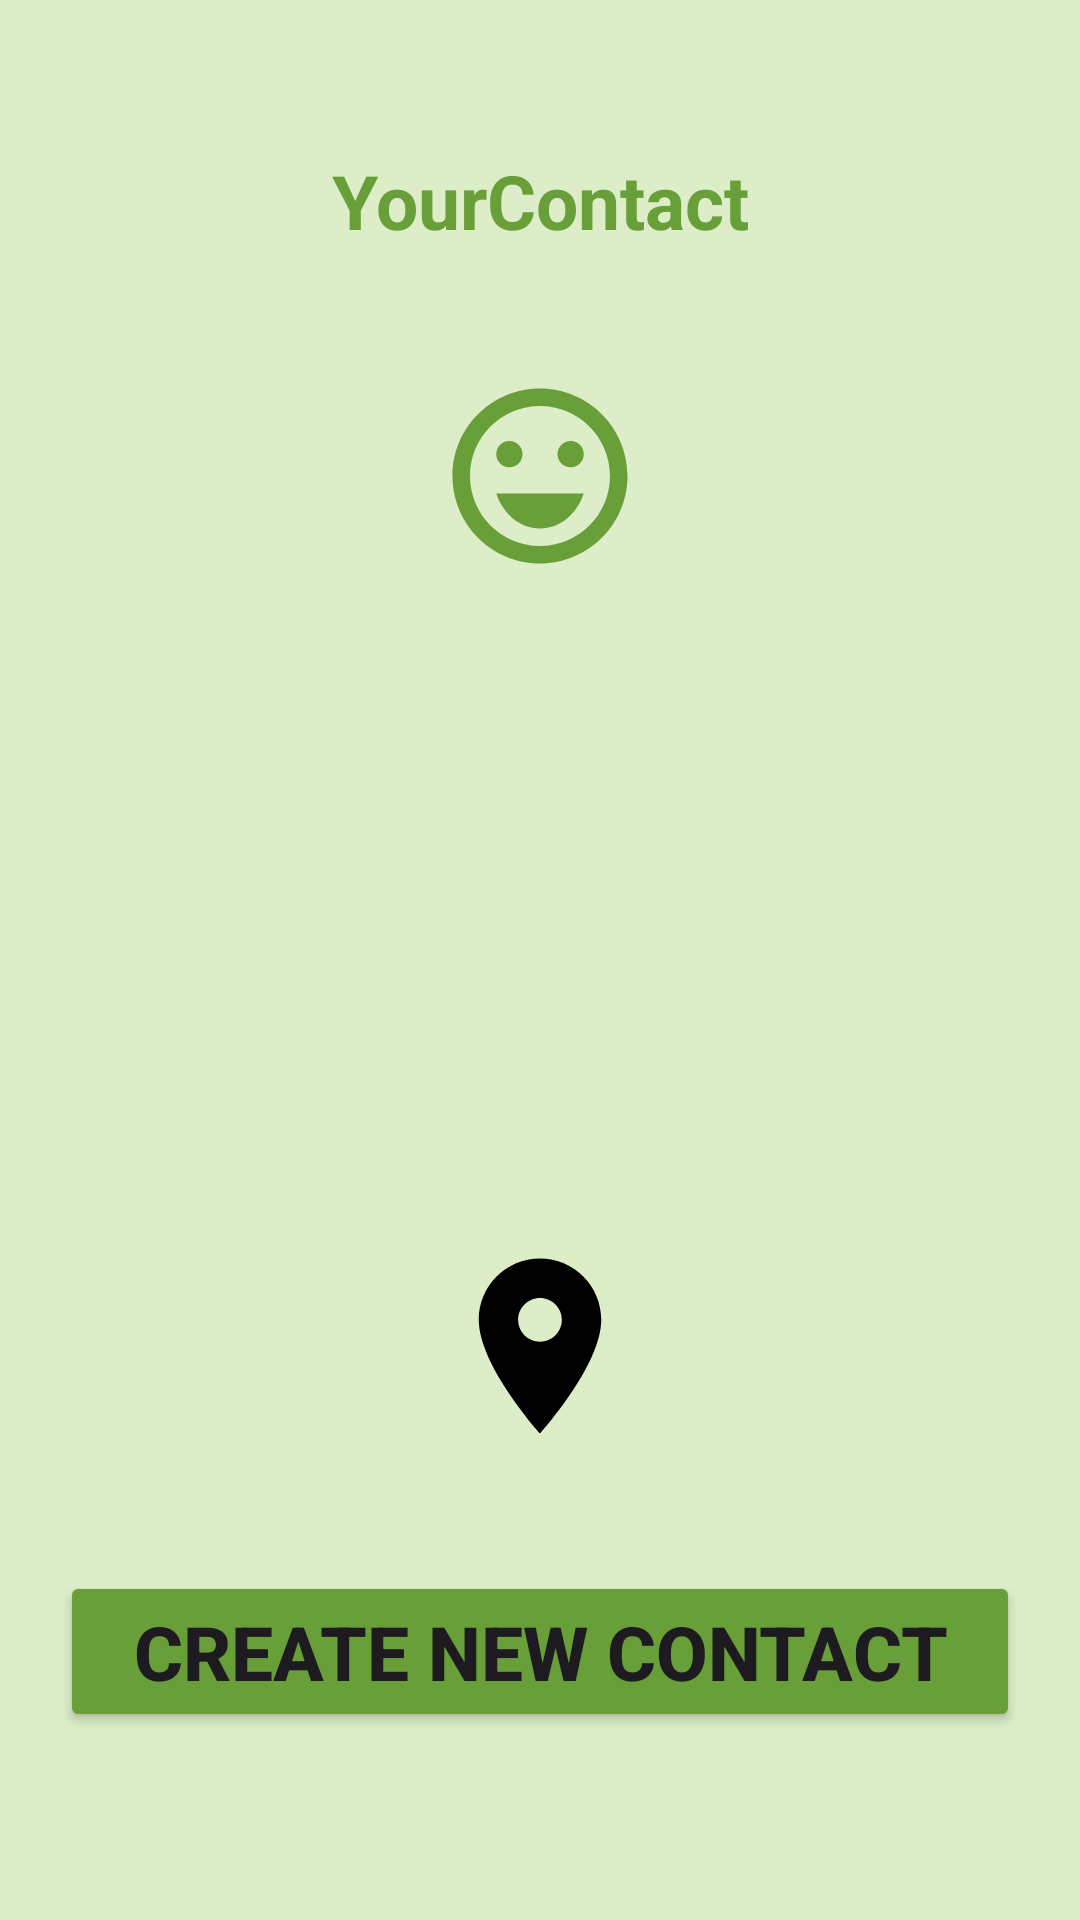

Icons on this 1080 × 1920 Android screen, each with the point to tap as (x,y):
happy: (540,476)
location: (540,1346)
